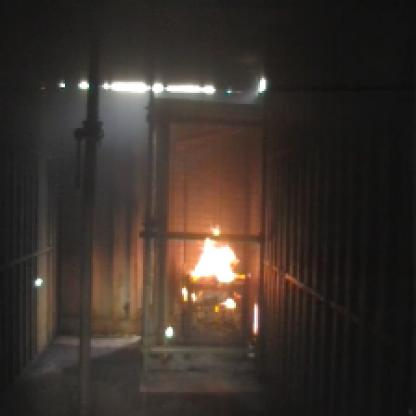Fire: (182, 226, 251, 314)
